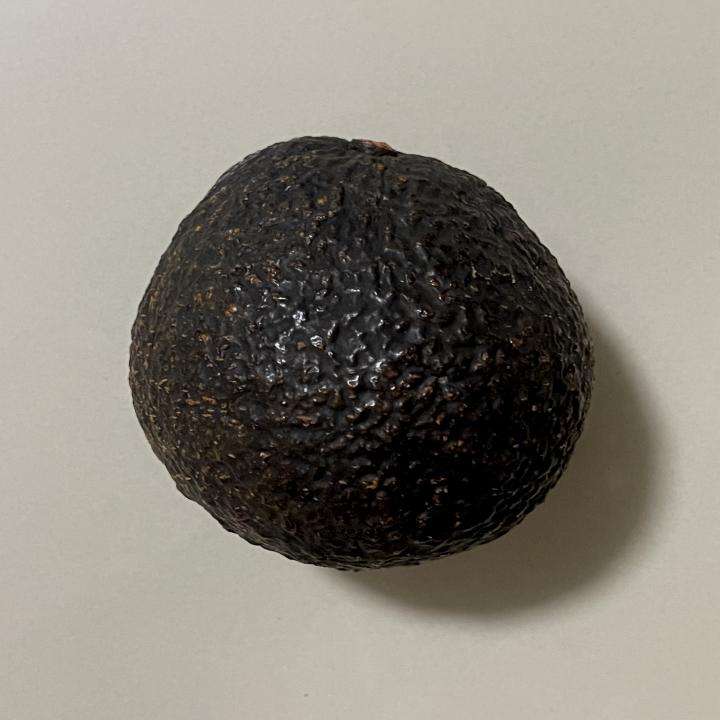Level3: (115, 122, 606, 580)
